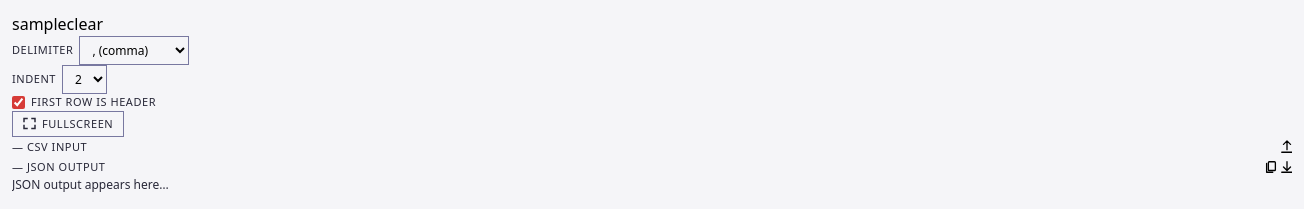
Test: CsvToJson › conversion logic › shows row count badge after conversion
What coordinates should you click on to do the following:
click the button "sample"
I would click on:
 (39, 24)
Its box is [12,12,67,36].
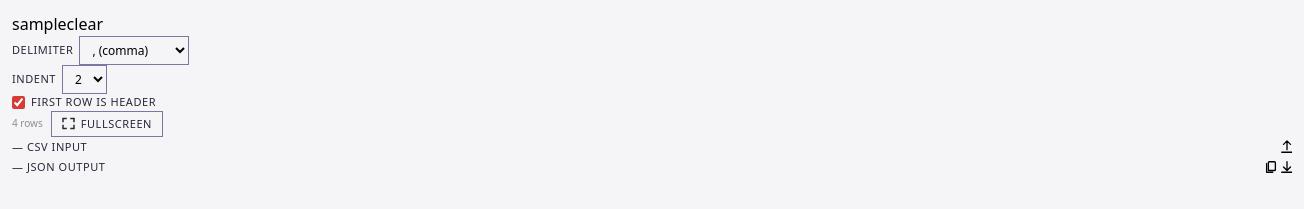
Expected: the text "4 rows" is shown, [12,116,43,131]
